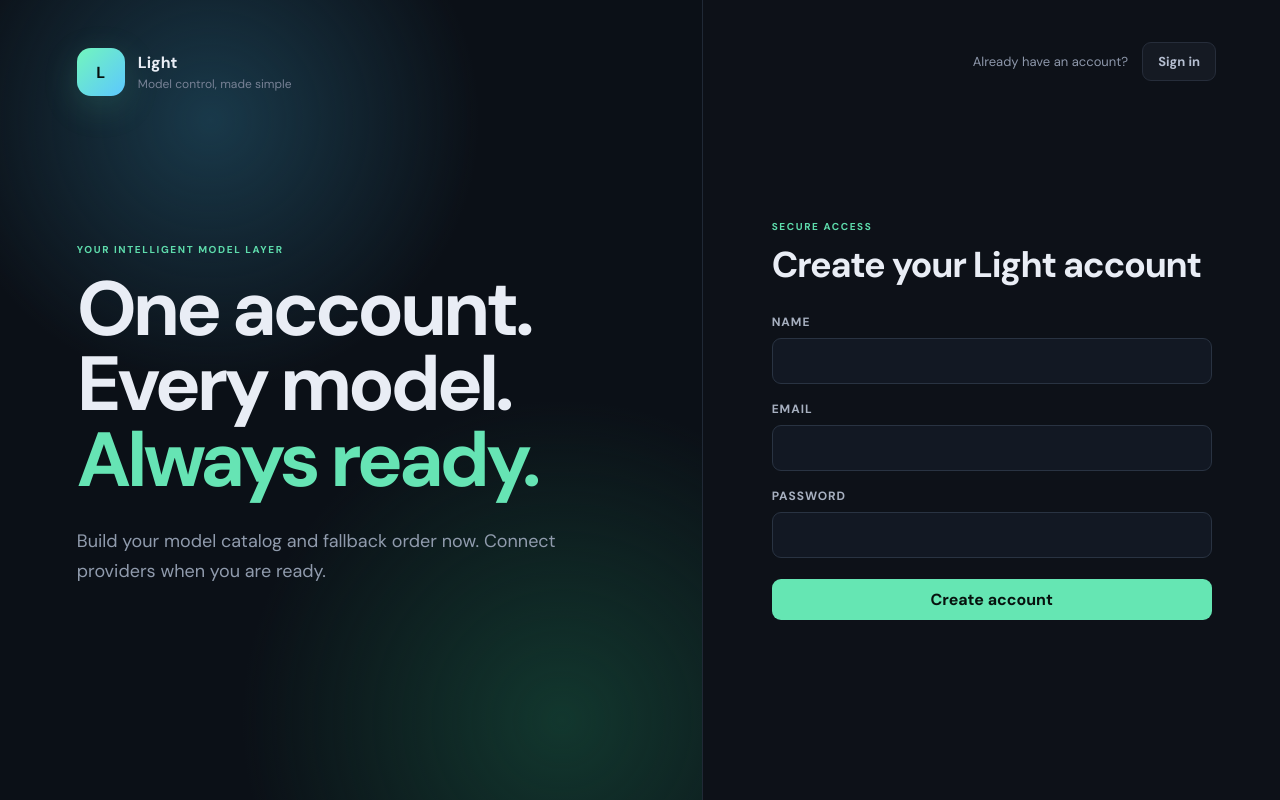
Test case: Light account access › resends a fresh verification code from the verification screen
Step 1. Type "Elijah" into the field labelled "Name" → (992, 360), box [772,338,1212,384]
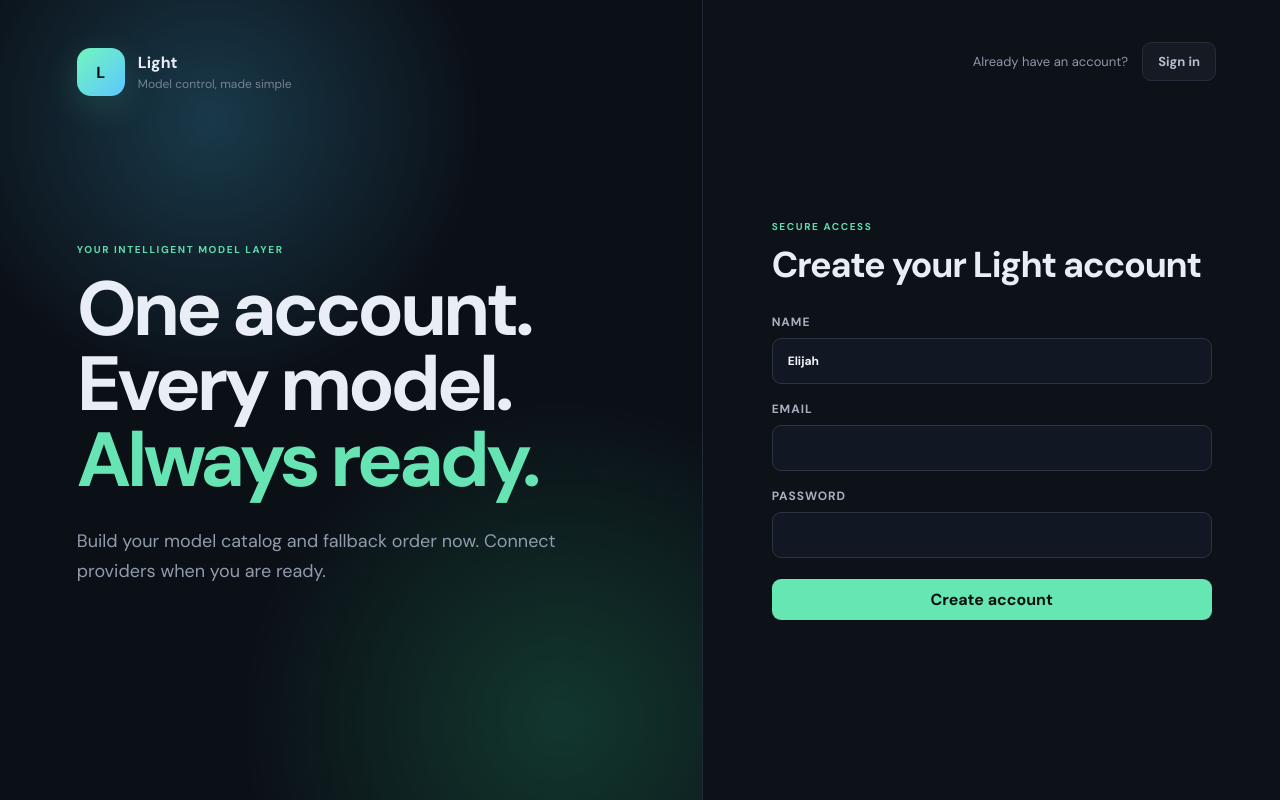
Step 2. Type "elijah@example.com" into the field labelled "Email" → (992, 448), box [772,424,1212,470]
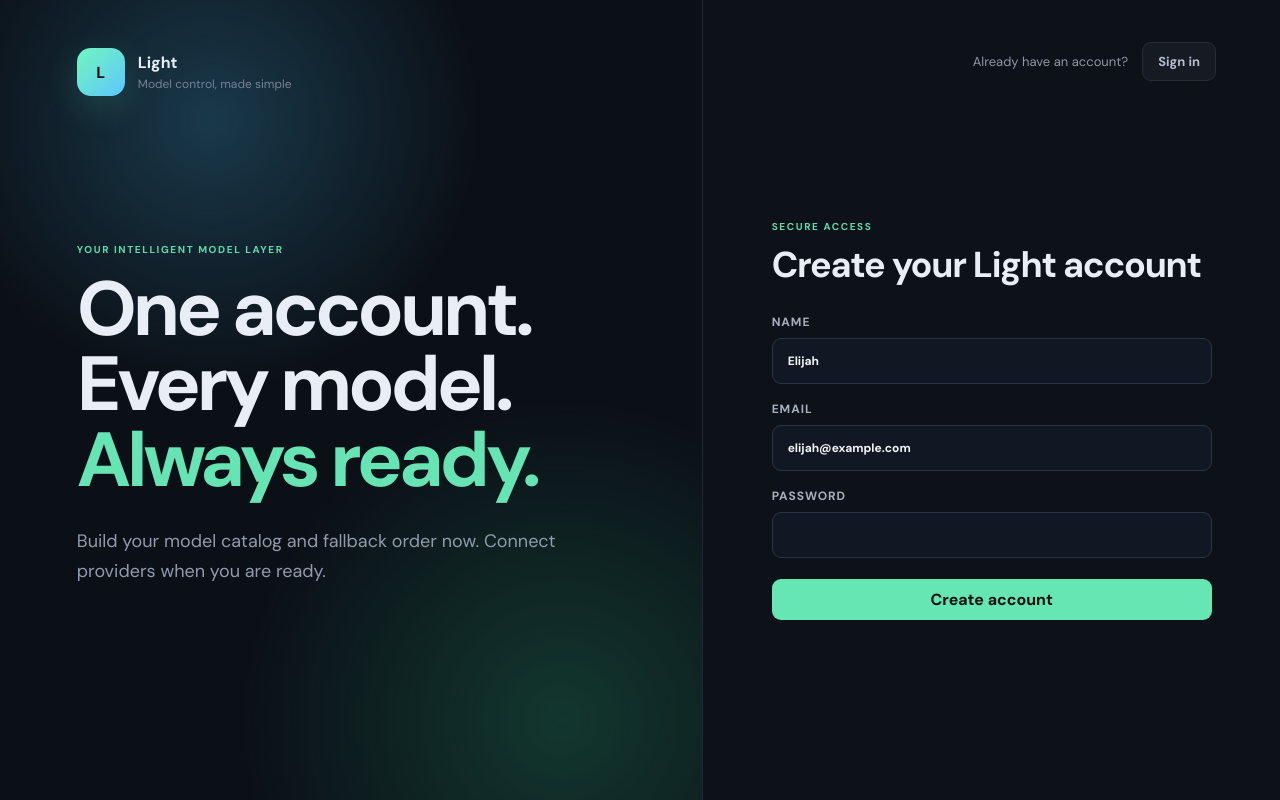
Step 3. Type "a secure password" into the password field labelled "Password" → (992, 534), box [772,512,1212,558]
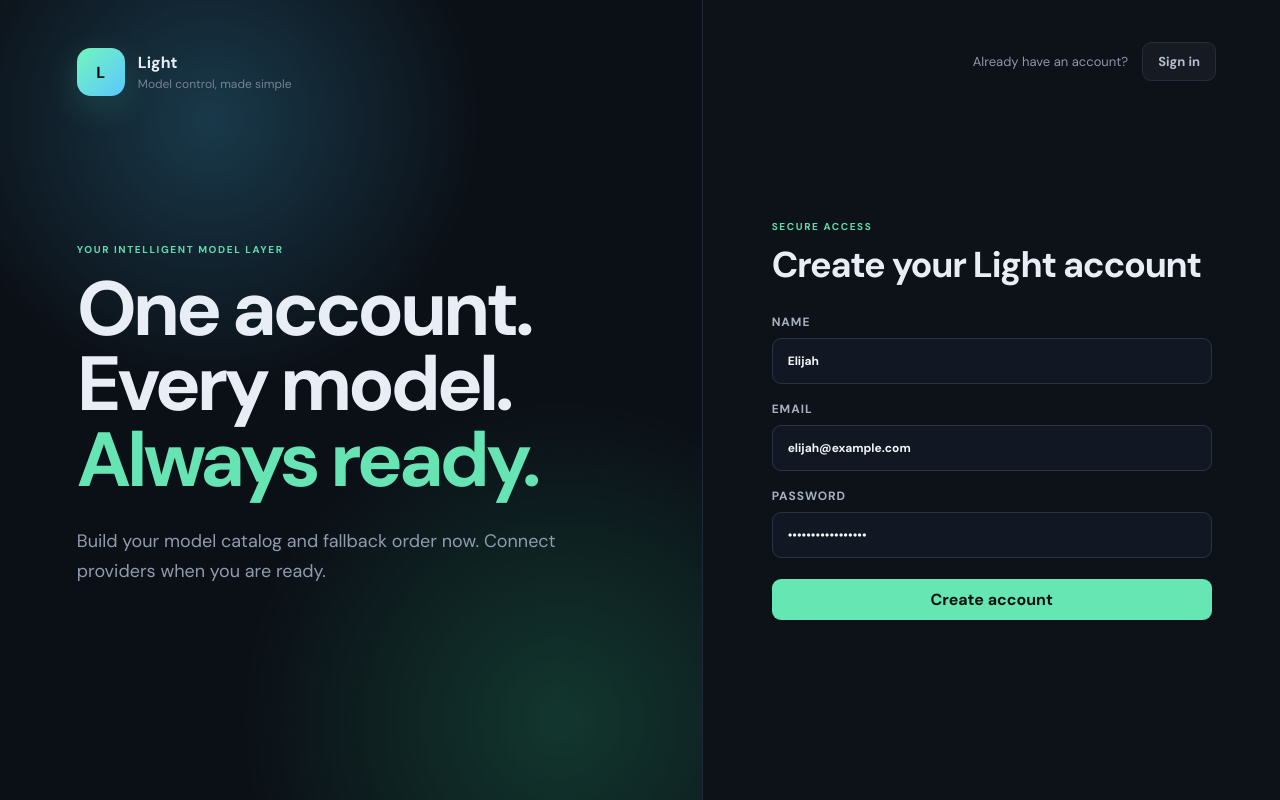
Step 4. Click the button "Create account" → (992, 599), box [772,578,1212,620]
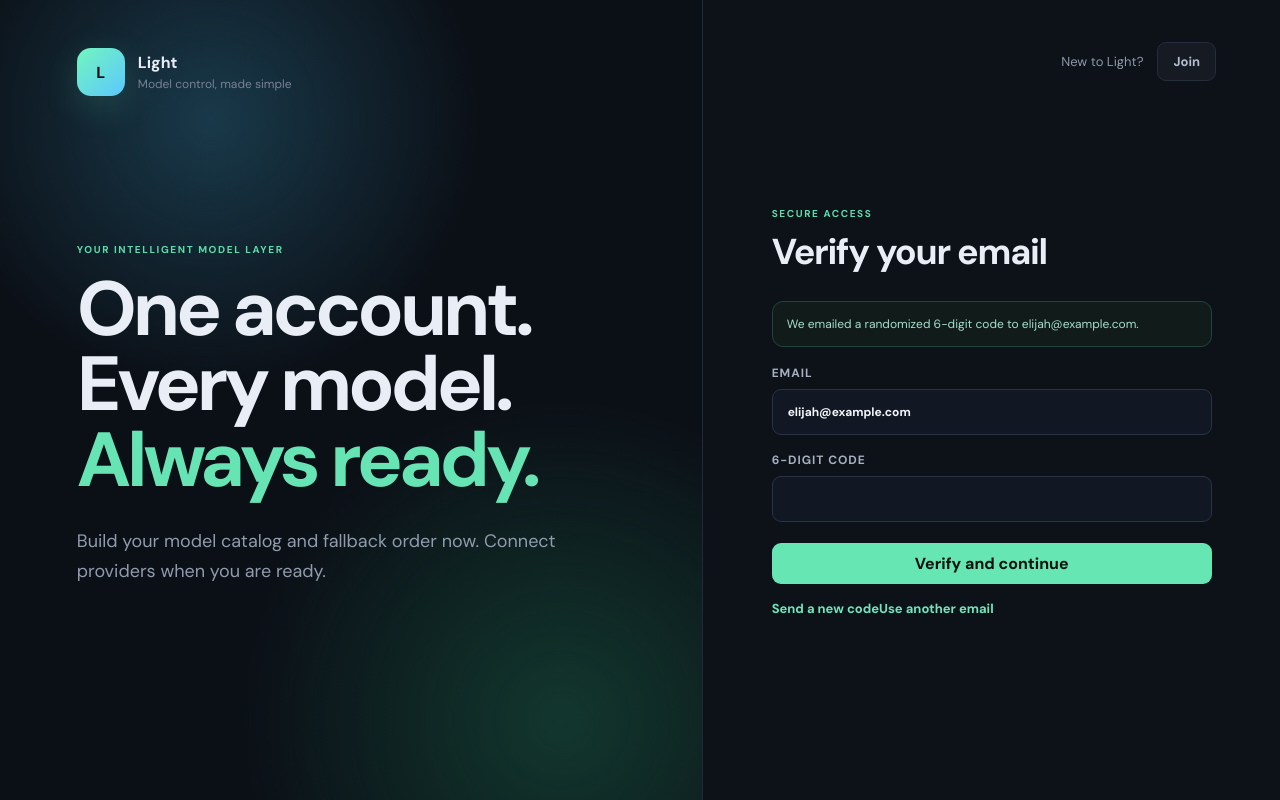
Step 5. Click the button "Send a new code" → (825, 608), box [772,584,879,632]
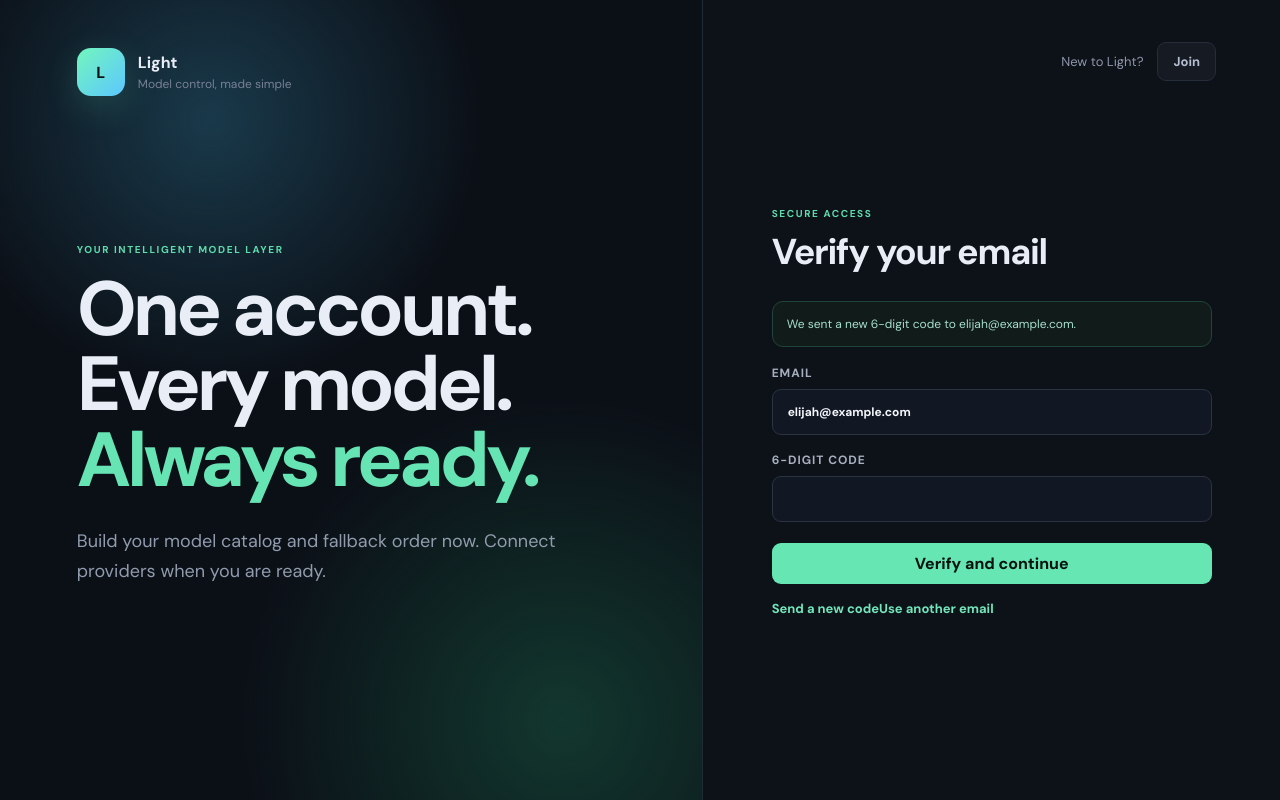
Expected: the text "We sent a new 6-digit code to elijah@example.com." is shown, [772,300,1212,346]
